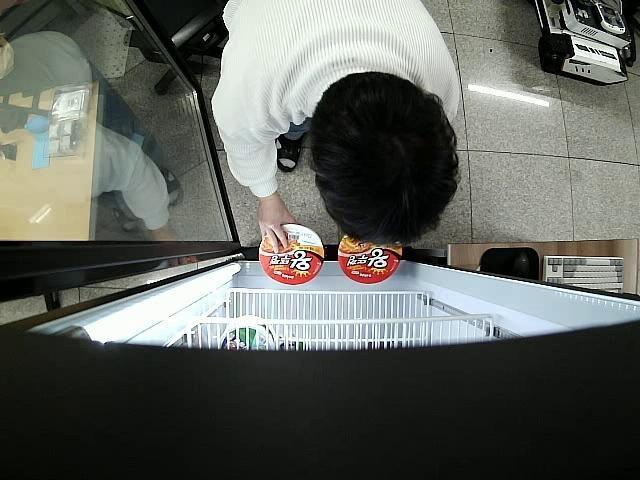10_wangTtukkeong: (260, 224, 323, 286)
